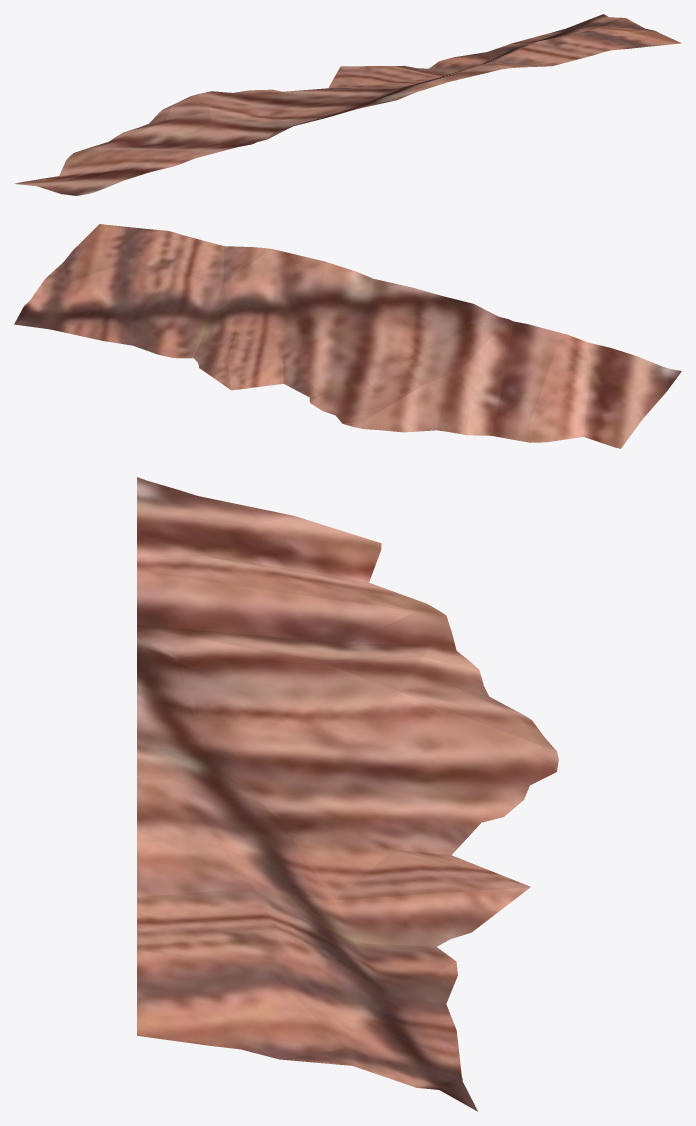
3 views of the same model, one above another, from view 1: azimuth 30°, elevation 25°; view 2: azimuth 150°, elevation 25°; view 3: azimuth 270°, elevation 25° (orthographic). The views are drawn at different scales.
Size of the model in its own units: 0.8374 by 0.0764 by 0.2626.
1 material, 1 textured.
